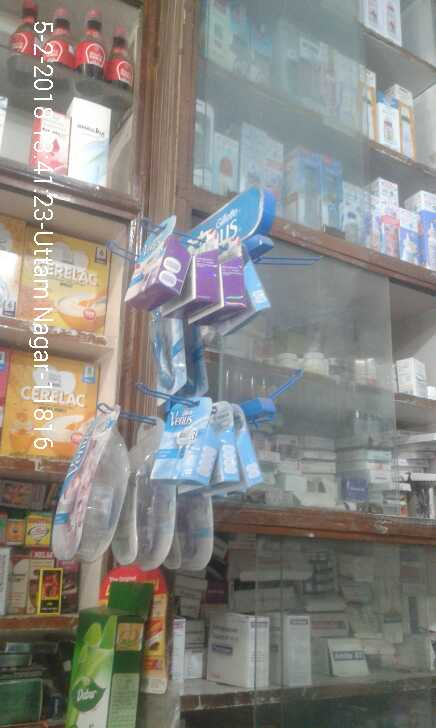venus: (44, 387, 126, 564), (148, 400, 215, 484)
